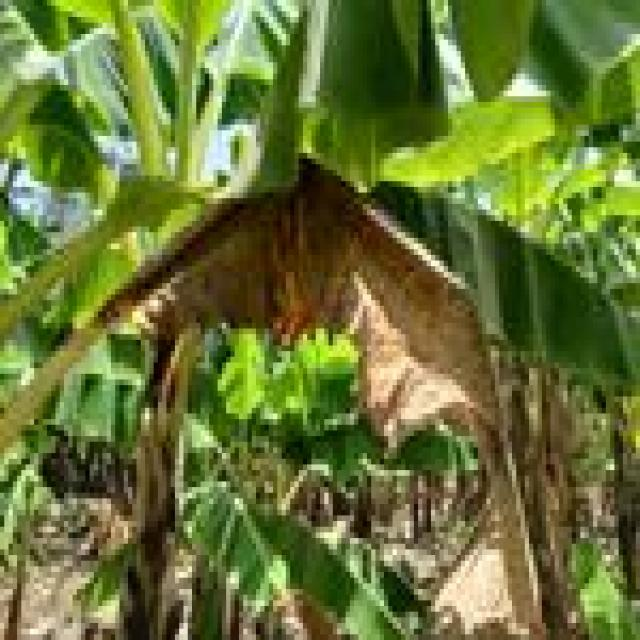Early_rust: (224, 452, 359, 640)
